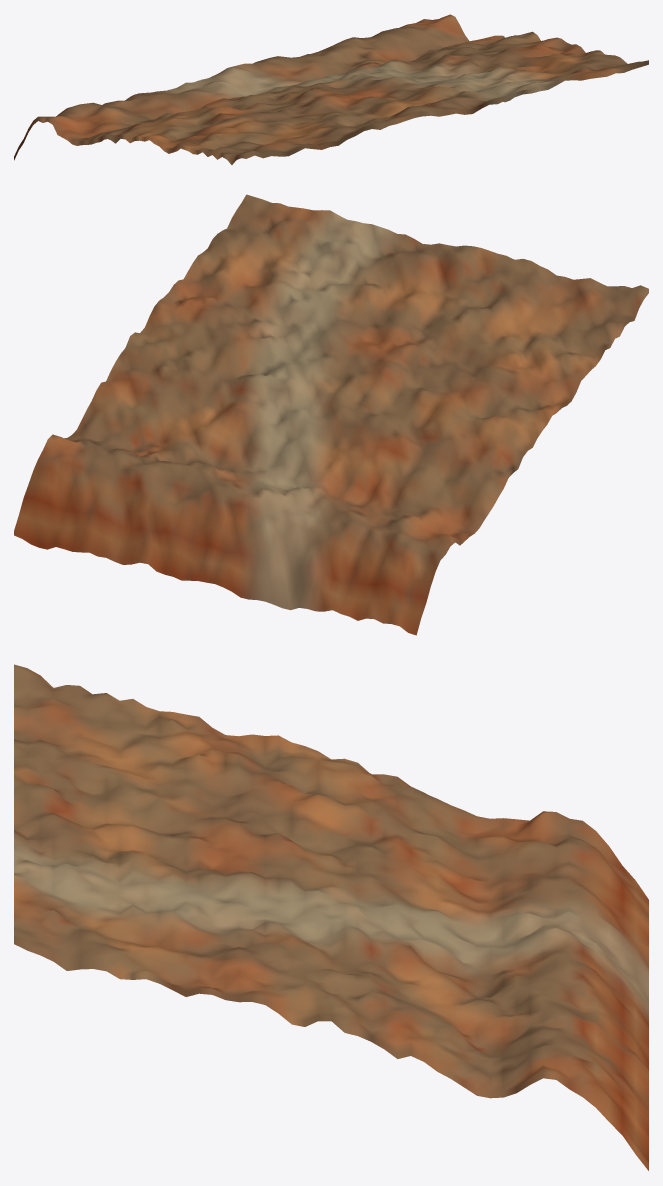
Rendered from terrain-139.glb.
3 renders of one model, top to bottom at view 1: azimuth 30°, elevation 25°; view 2: azimuth 150°, elevation 25°; view 3: azimuth 270°, elevation 25°, orthographic. The views are drawn at different scales.
Visible parts, largest first — view 1: terrain-139; view 2: terrain-139; view 3: terrain-139.
Part boxes in pixels (x1,y1,x2,y2): terrain-139: (14,14,648,164); terrain-139: (14,194,648,635); terrain-139: (14,664,648,1170).
Size of the model in its own units: 384 by 167 by 384.
